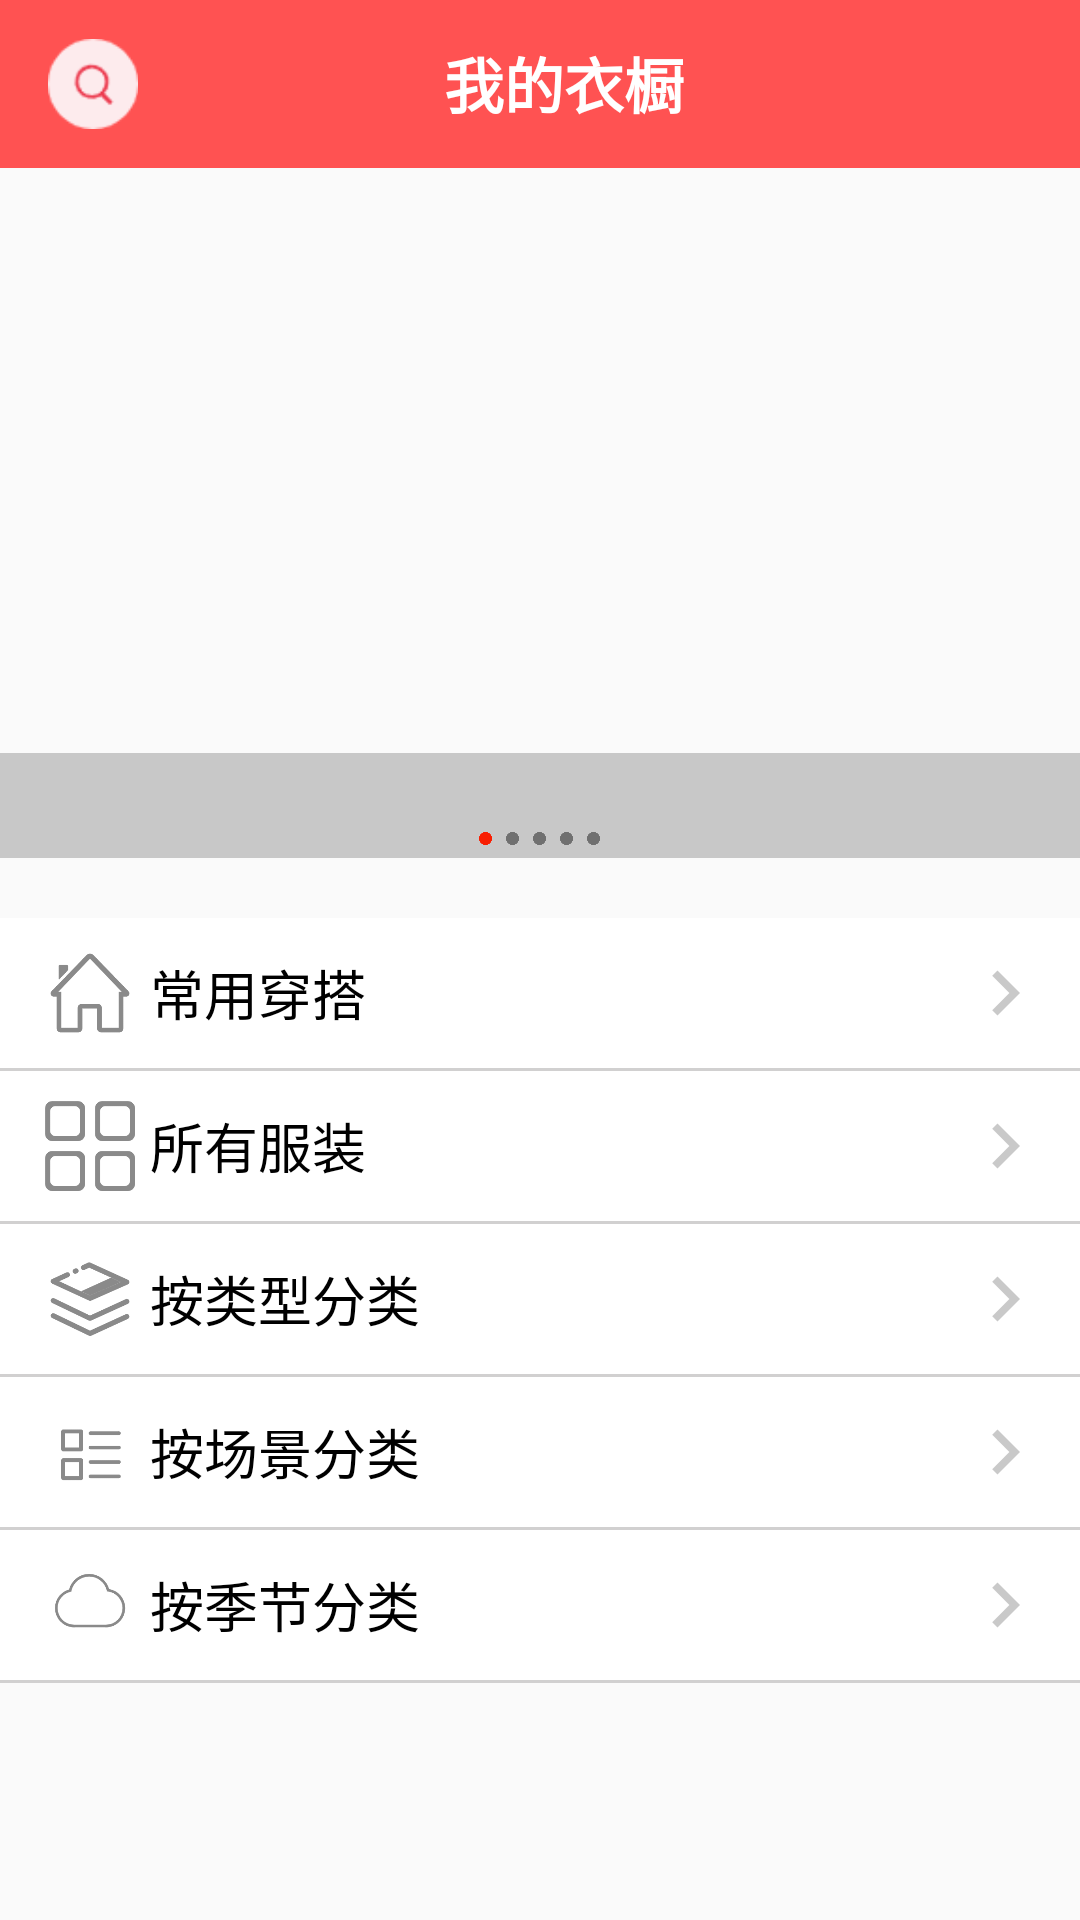

Icon bounding boxes for this 1080 × 1920 phone screenshot, format (x1, y1, x2, y2):
all: (45, 1101, 135, 1191)
back right: (992, 971, 1020, 1015), (992, 1124, 1020, 1168), (992, 1277, 1020, 1321), (992, 1430, 1020, 1474), (992, 1583, 1020, 1627)
search: (48, 39, 138, 129)
type: (50, 1262, 130, 1336)
